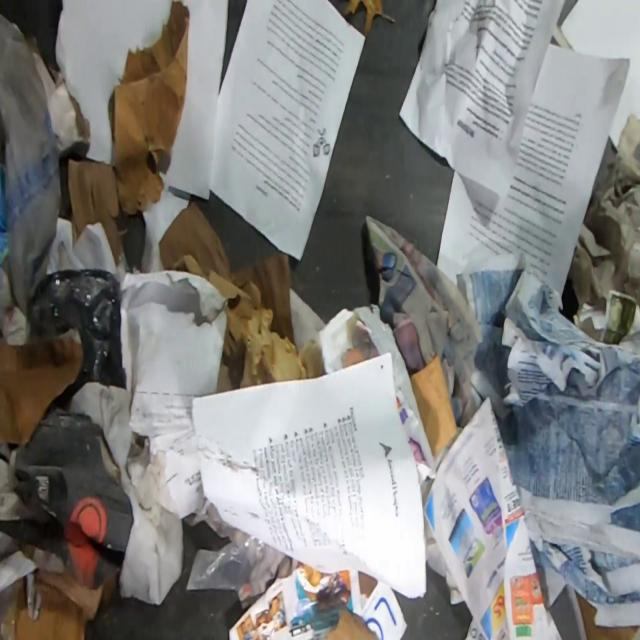cardboard: (158, 194, 298, 393), (109, 0, 191, 217), (0, 327, 84, 445), (14, 564, 104, 640), (67, 158, 128, 268), (408, 350, 458, 459), (321, 606, 382, 640)
rigid_plastic: (26, 266, 126, 407), (0, 577, 21, 640)
soft_plastic: (0, 8, 62, 317), (185, 534, 286, 597)
